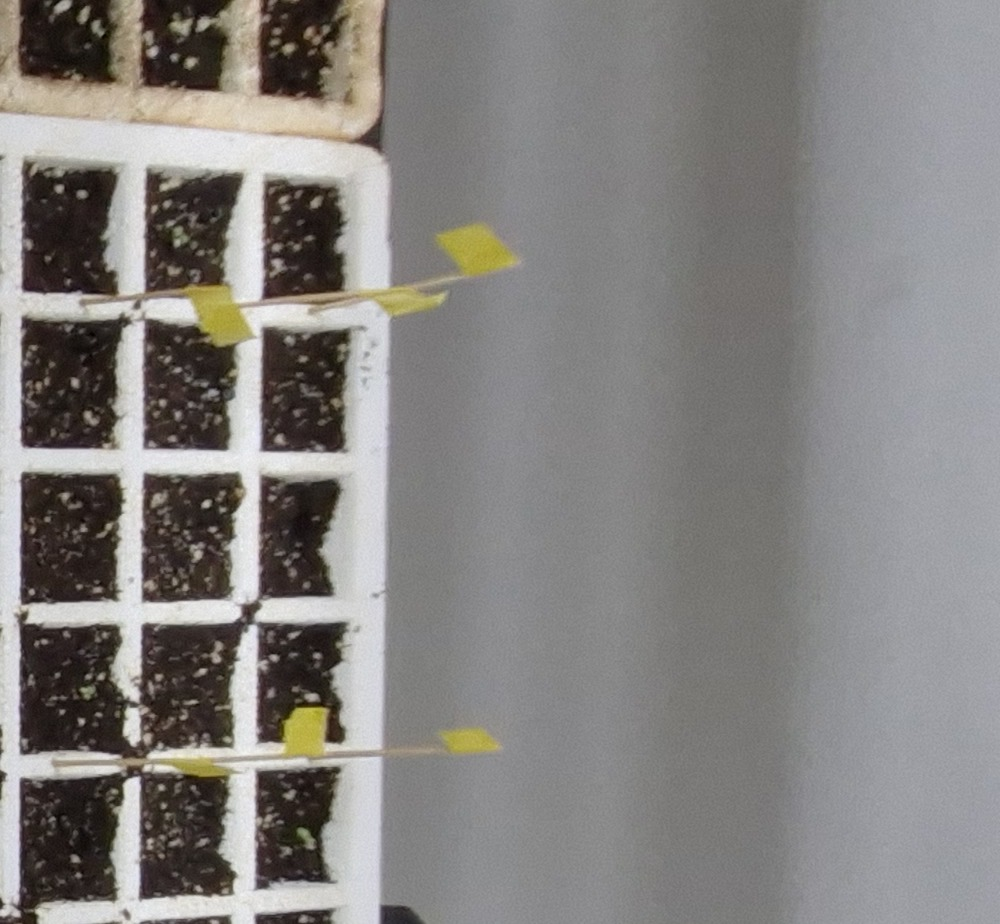Folha: (297, 827, 315, 838), (173, 226, 184, 235)
Germinacao: (173, 226, 190, 243), (79, 684, 96, 700), (297, 827, 311, 838)
